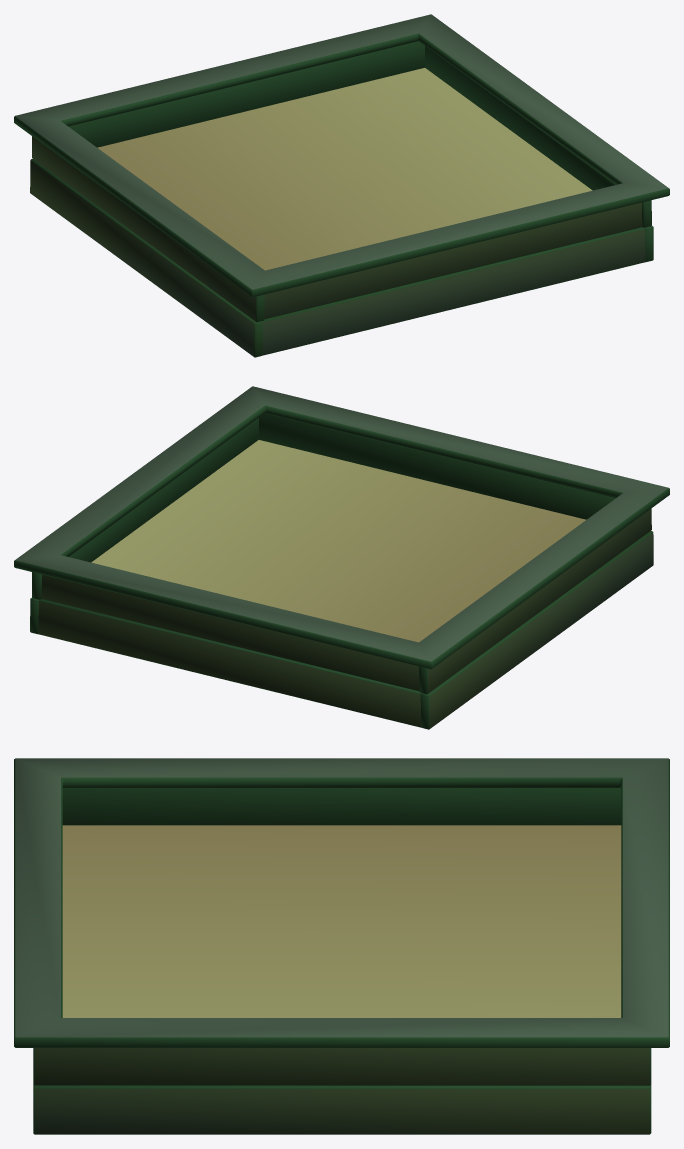
Rendered from Sandbox.fbx.
3 renders of one model, top to bottom at view 1: azimuth 30°, elevation 25°; view 2: azimuth 150°, elevation 25°; view 3: azimuth 270°, elevation 25°, orthographic. The views are drawn at different scales.
Visible parts, largest first — view 1: Sandbox; view 2: Sandbox; view 3: Sandbox.
Part boxes in pixels (x1,y1,x2,y2): Sandbox: (14,14,669,357); Sandbox: (14,386,669,729); Sandbox: (14,758,669,1134).
Bounding box in the file's own units: 689 × 118 × 681.
